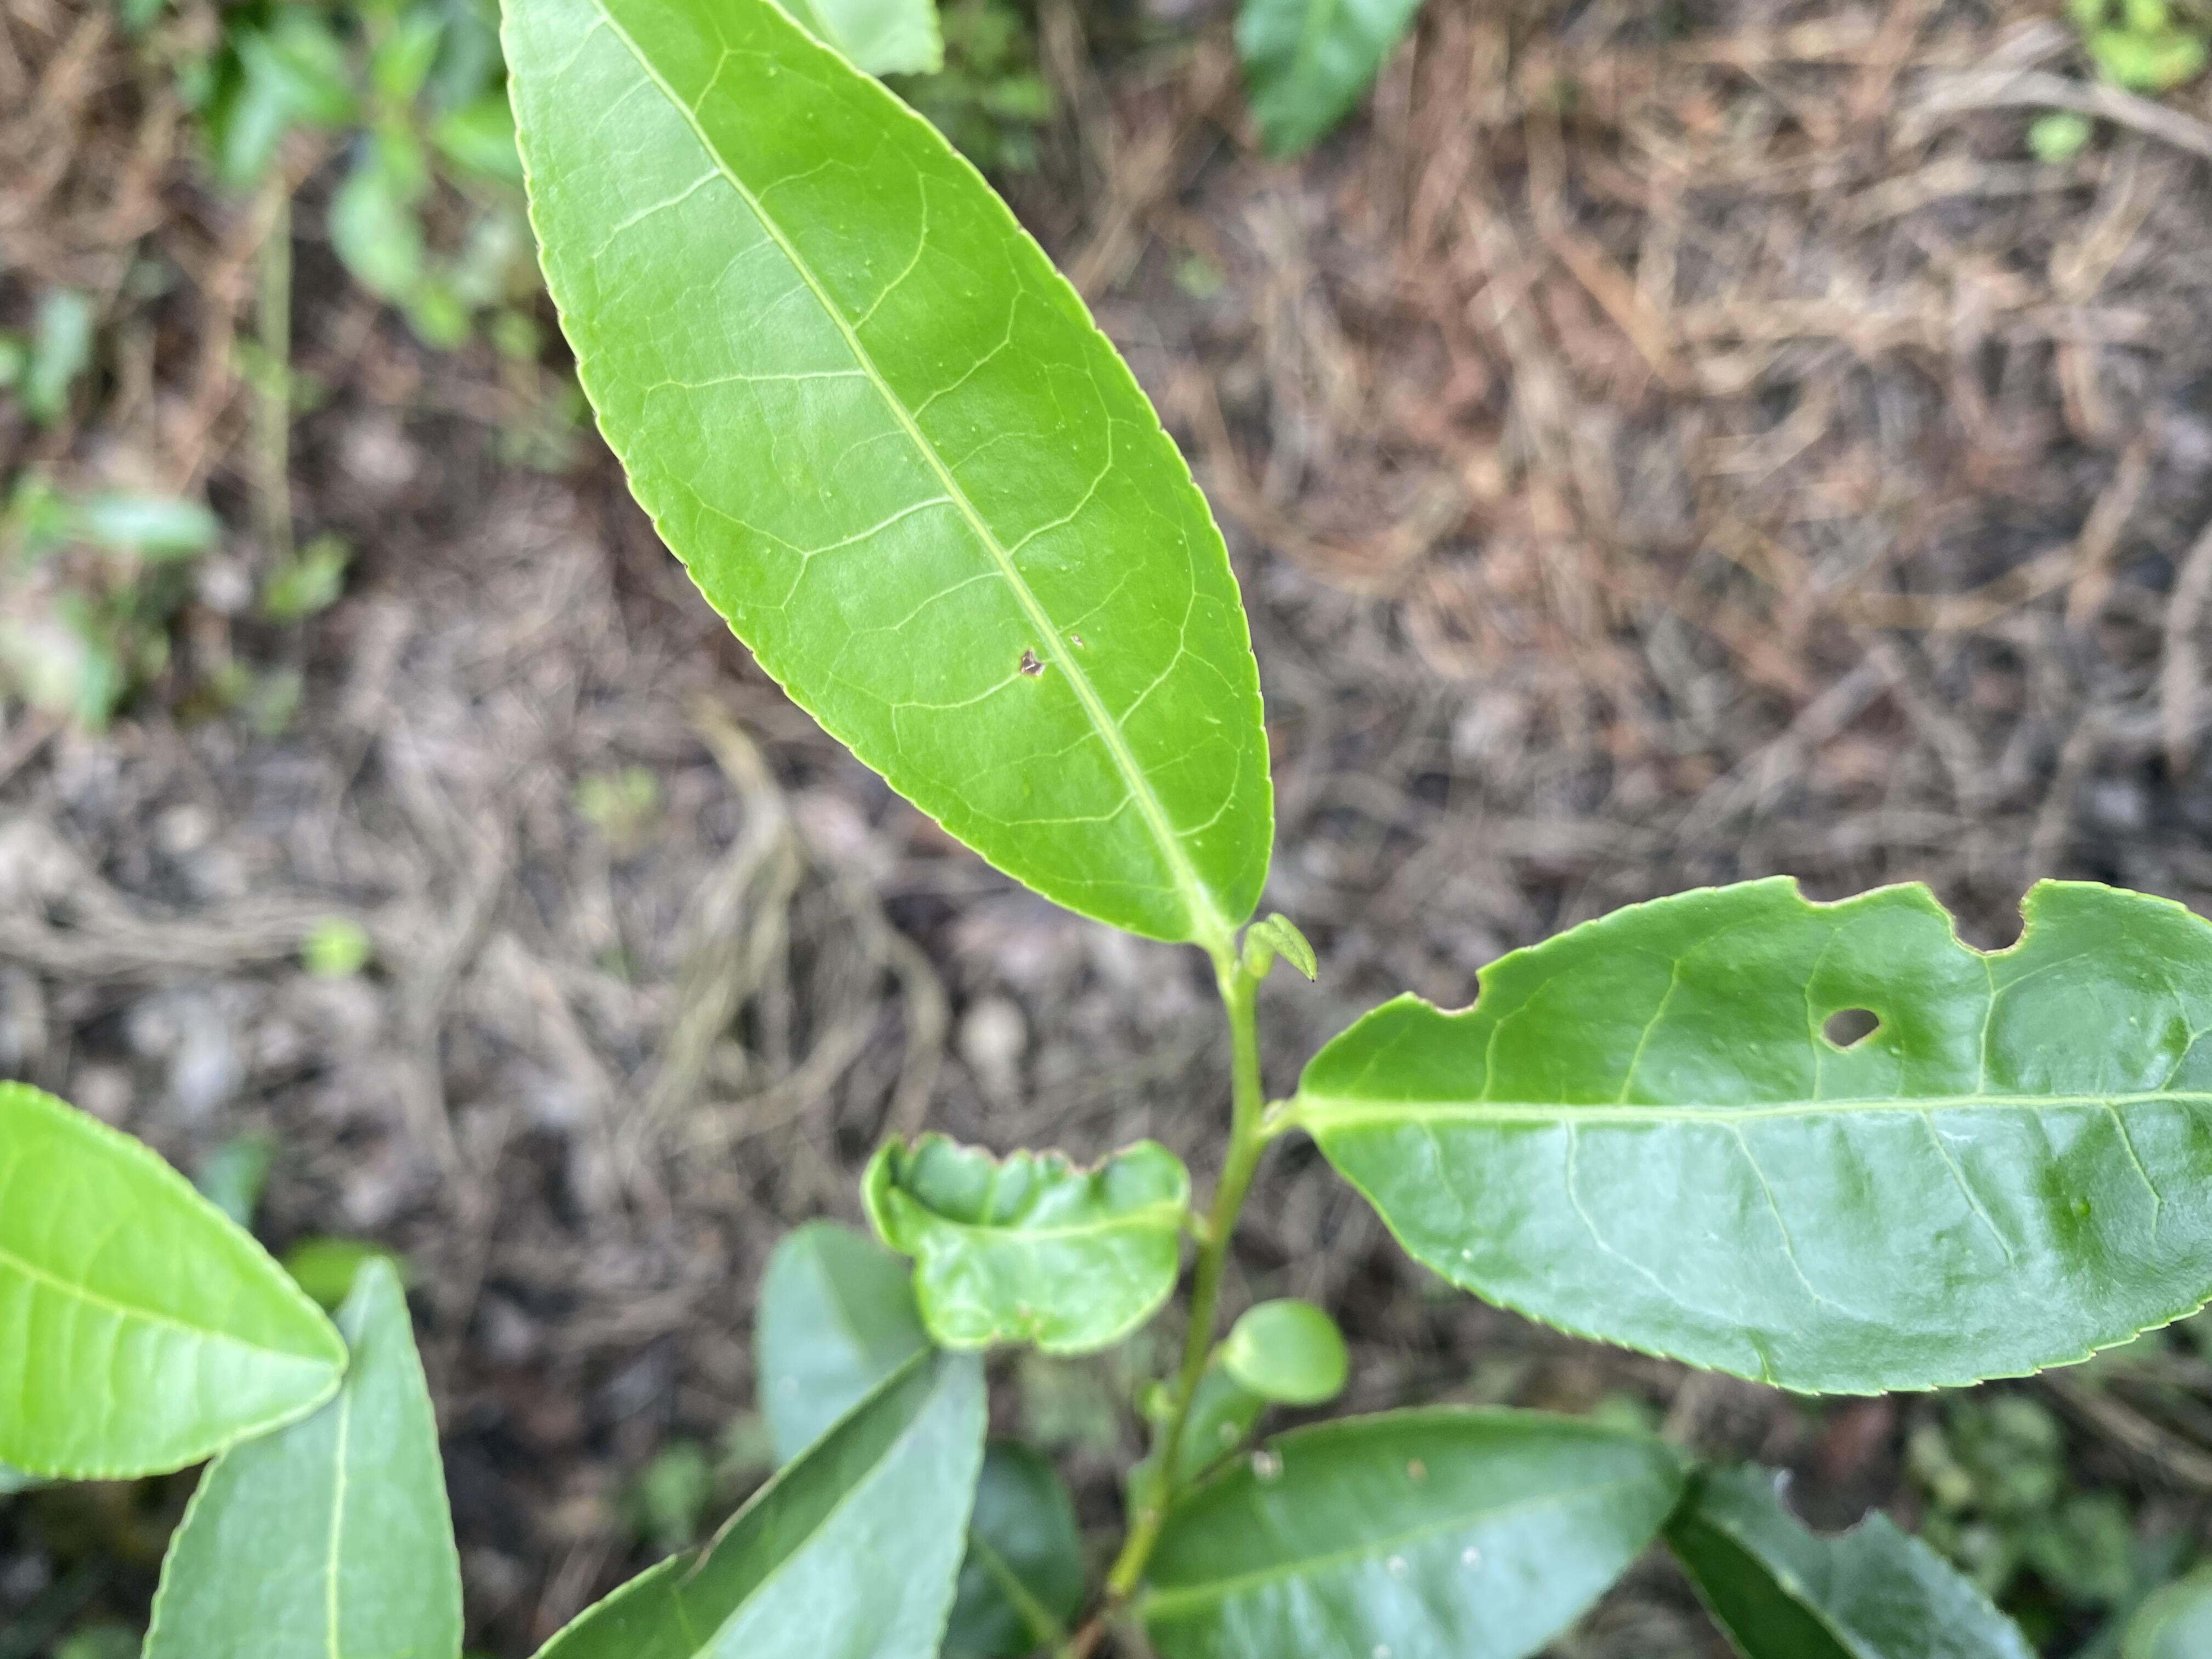chihuo_high: (1303, 873, 2210, 1398), (857, 1126, 1193, 1358)
tanju_low: (491, 3, 1277, 943)
